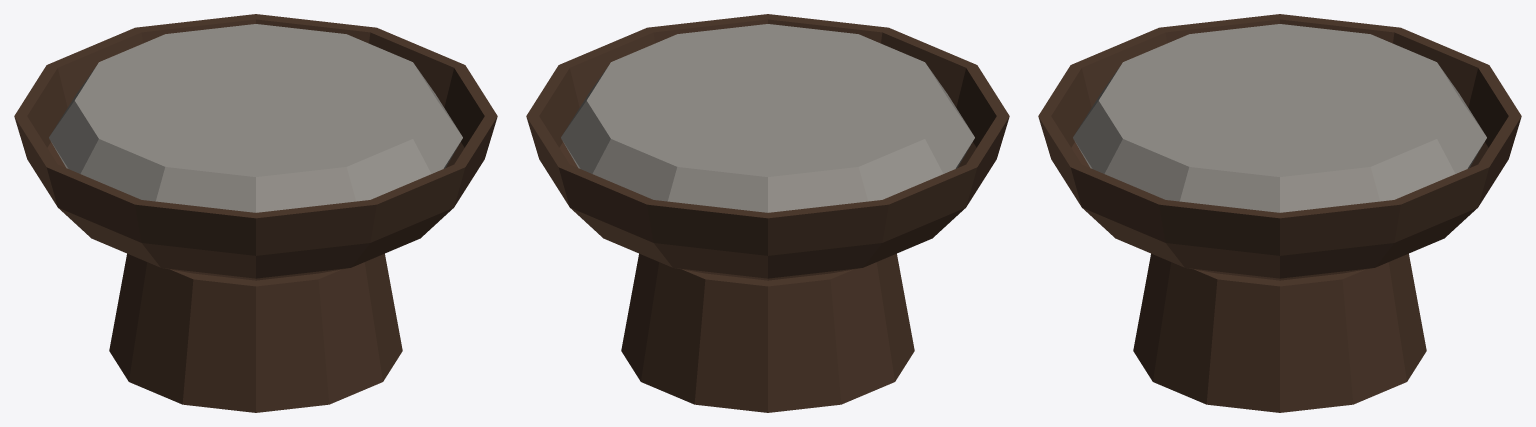
The model's file is FN_Chair_Papasan.glb.
The picture shows the model from 3 angles, left to right: view 1: azimuth 30°, elevation 25°; view 2: azimuth 150°, elevation 25°; view 3: azimuth 270°, elevation 25°; orthographic projection.
Parts seen in each view (by area): view 1: FN_Chair_Papasan; view 2: FN_Chair_Papasan; view 3: FN_Chair_Papasan.
Boxes of the visible parts, x1=… form: FN_Chair_Papasan: x1=14, y1=14, x2=497, y2=412; FN_Chair_Papasan: x1=526, y1=14, x2=1009, y2=412; FN_Chair_Papasan: x1=1038, y1=14, x2=1521, y2=412.
Size of the model in its own units: 1.12 by 0.64 by 1.12.
1 material, 1 textured.
